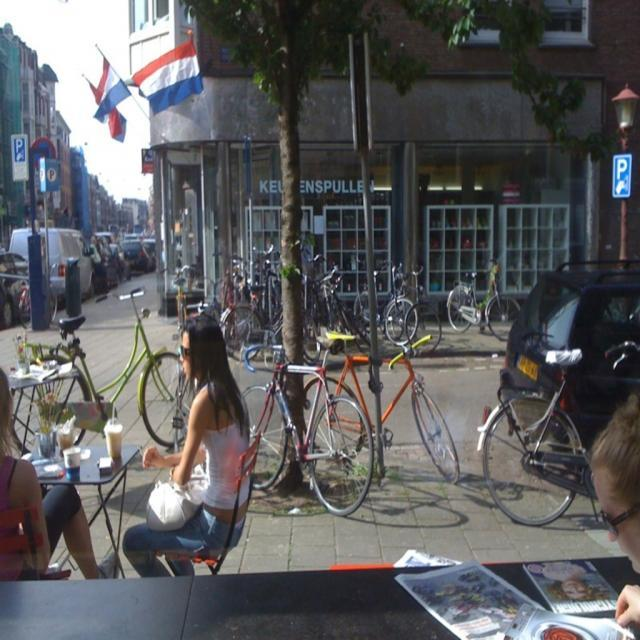car: (7, 243, 638, 527), (252, 341, 368, 520)
